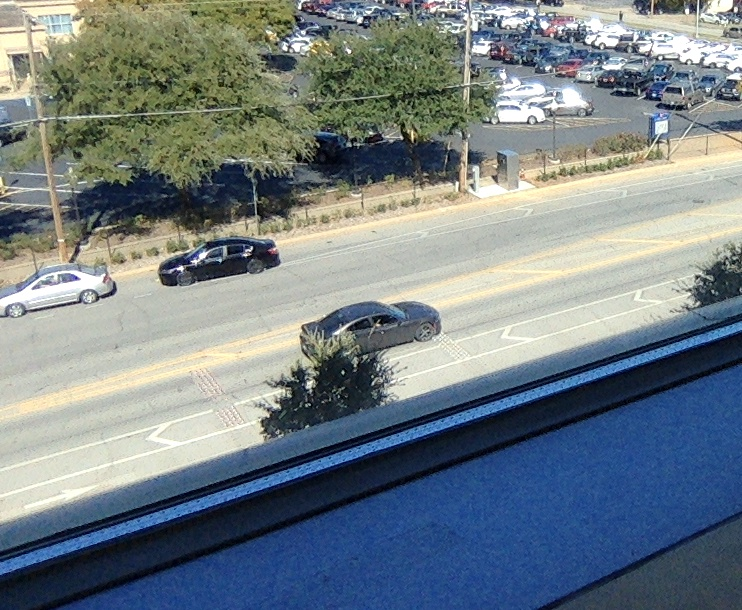car: (300, 300, 442, 359)
